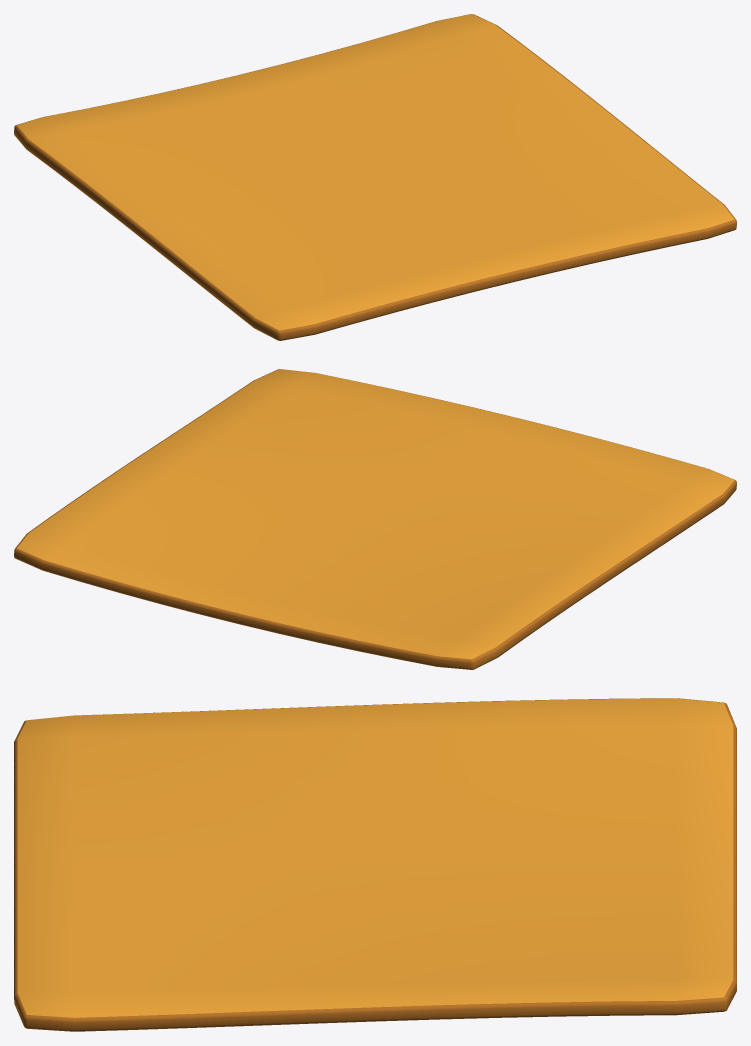
The model's file is cheese_slice.glb.
3 views of the same model, one above another, from view 1: azimuth 30°, elevation 25°; view 2: azimuth 150°, elevation 25°; view 3: azimuth 270°, elevation 25° (orthographic). The views are drawn at different scales.
Visible parts, largest first — view 1: cheese_slice; view 2: cheese_slice; view 3: cheese_slice.
Boxes of the visible parts, box(x1,y1,x2,y2) form: cheese_slice: box(14, 14, 736, 340); cheese_slice: box(14, 369, 736, 669); cheese_slice: box(14, 698, 736, 1031).
Bounding box in the file's own units: 0.1082 × 0.00524 × 0.108.
